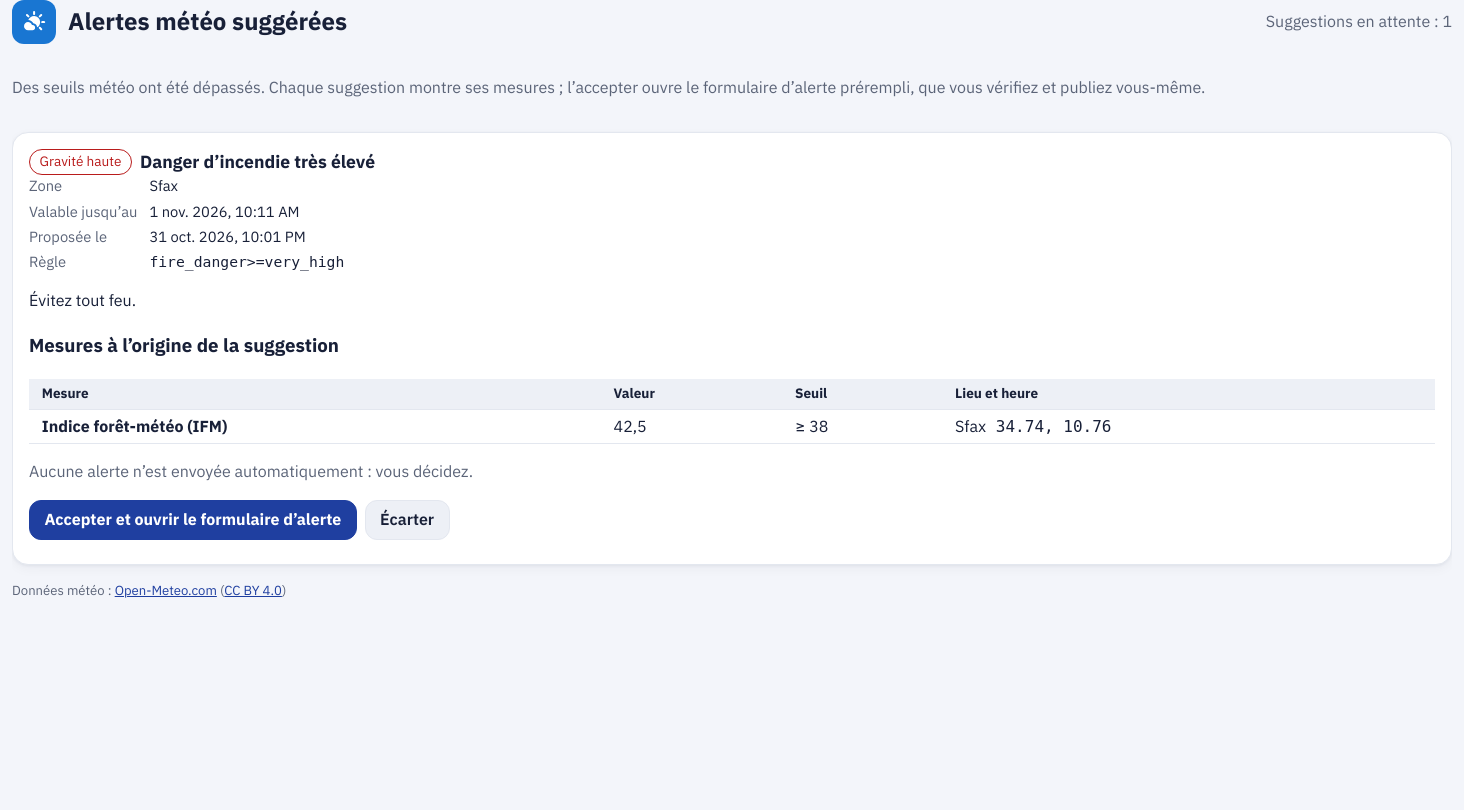
Test: WeatherSuggestionsPage › shows the evidence and opens the alert form prefilled on accept (nothing is sent)
Expected: the column heading "Indice forêt-météo (IFM)" is shown, [29, 410, 601, 444]
Expected: the text "≥ 38" is shown, [782, 410, 942, 444]
Step 1. Click the button "Accepter et ouvrir le formulaire d’alerte" → (193, 520), box [29, 500, 357, 540]
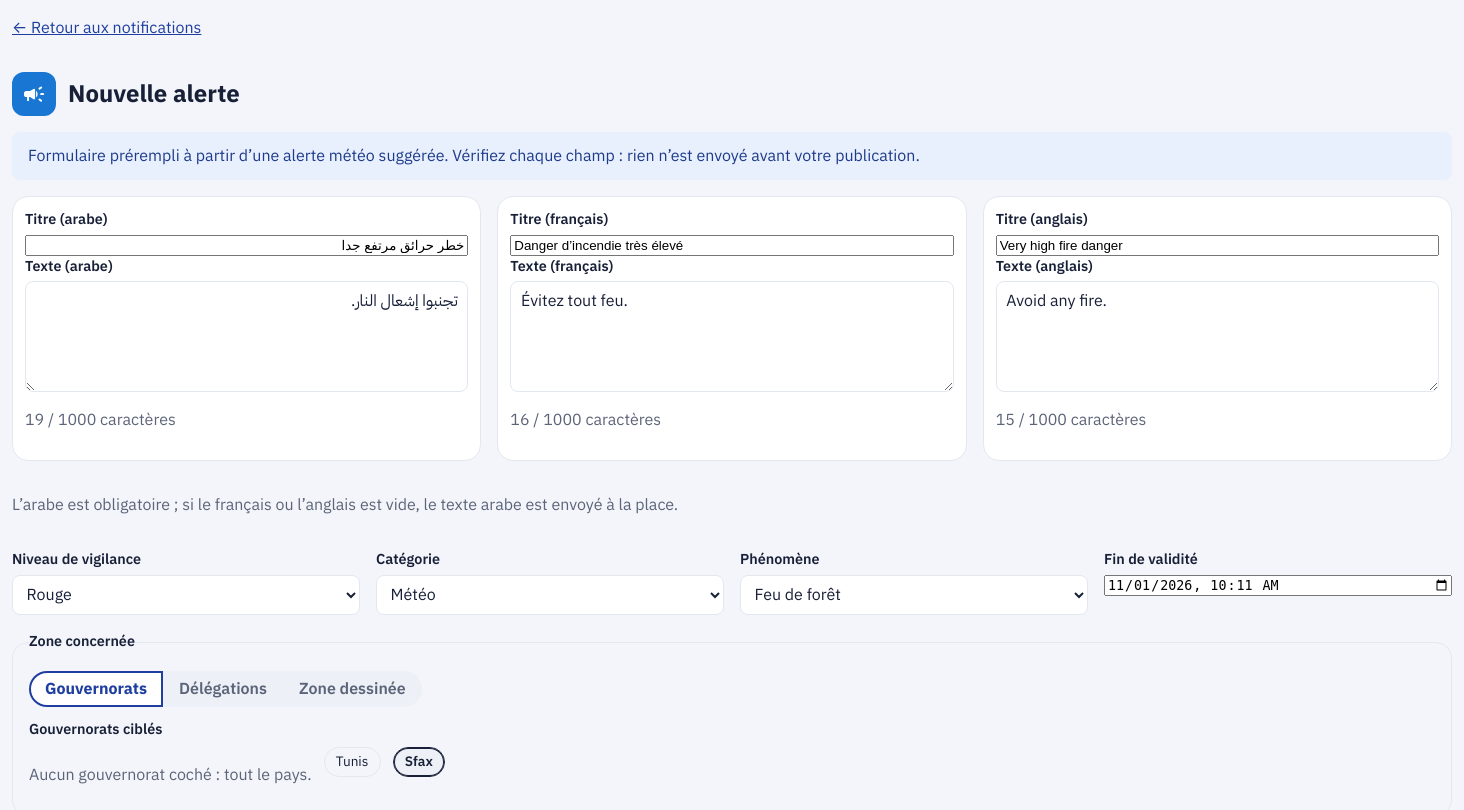
Now the heading "Nouvelle alerte" is shown, box [68, 76, 240, 112]
Now the text "alerte météo suggérée" is shown, box [28, 144, 920, 168]
Now the field labelled "Titre (arabe)" holds "خطر حرائق مرتفع جدا", box [25, 235, 468, 256]
